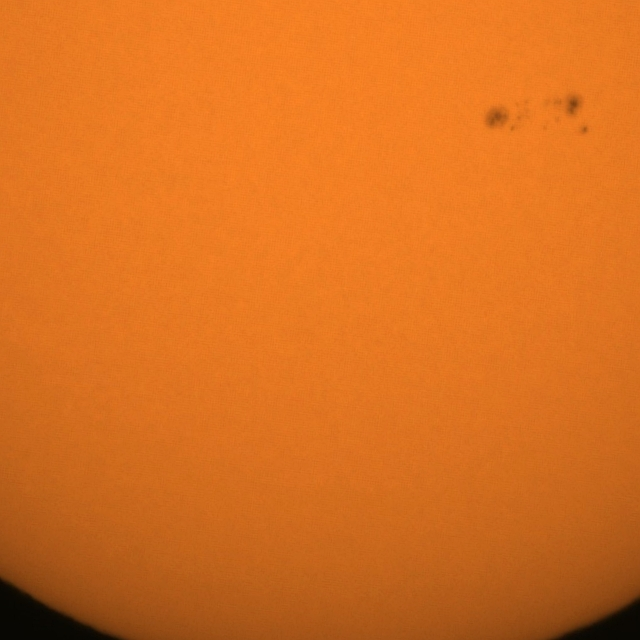sunspot: (540, 95, 590, 135), (486, 99, 526, 133)
